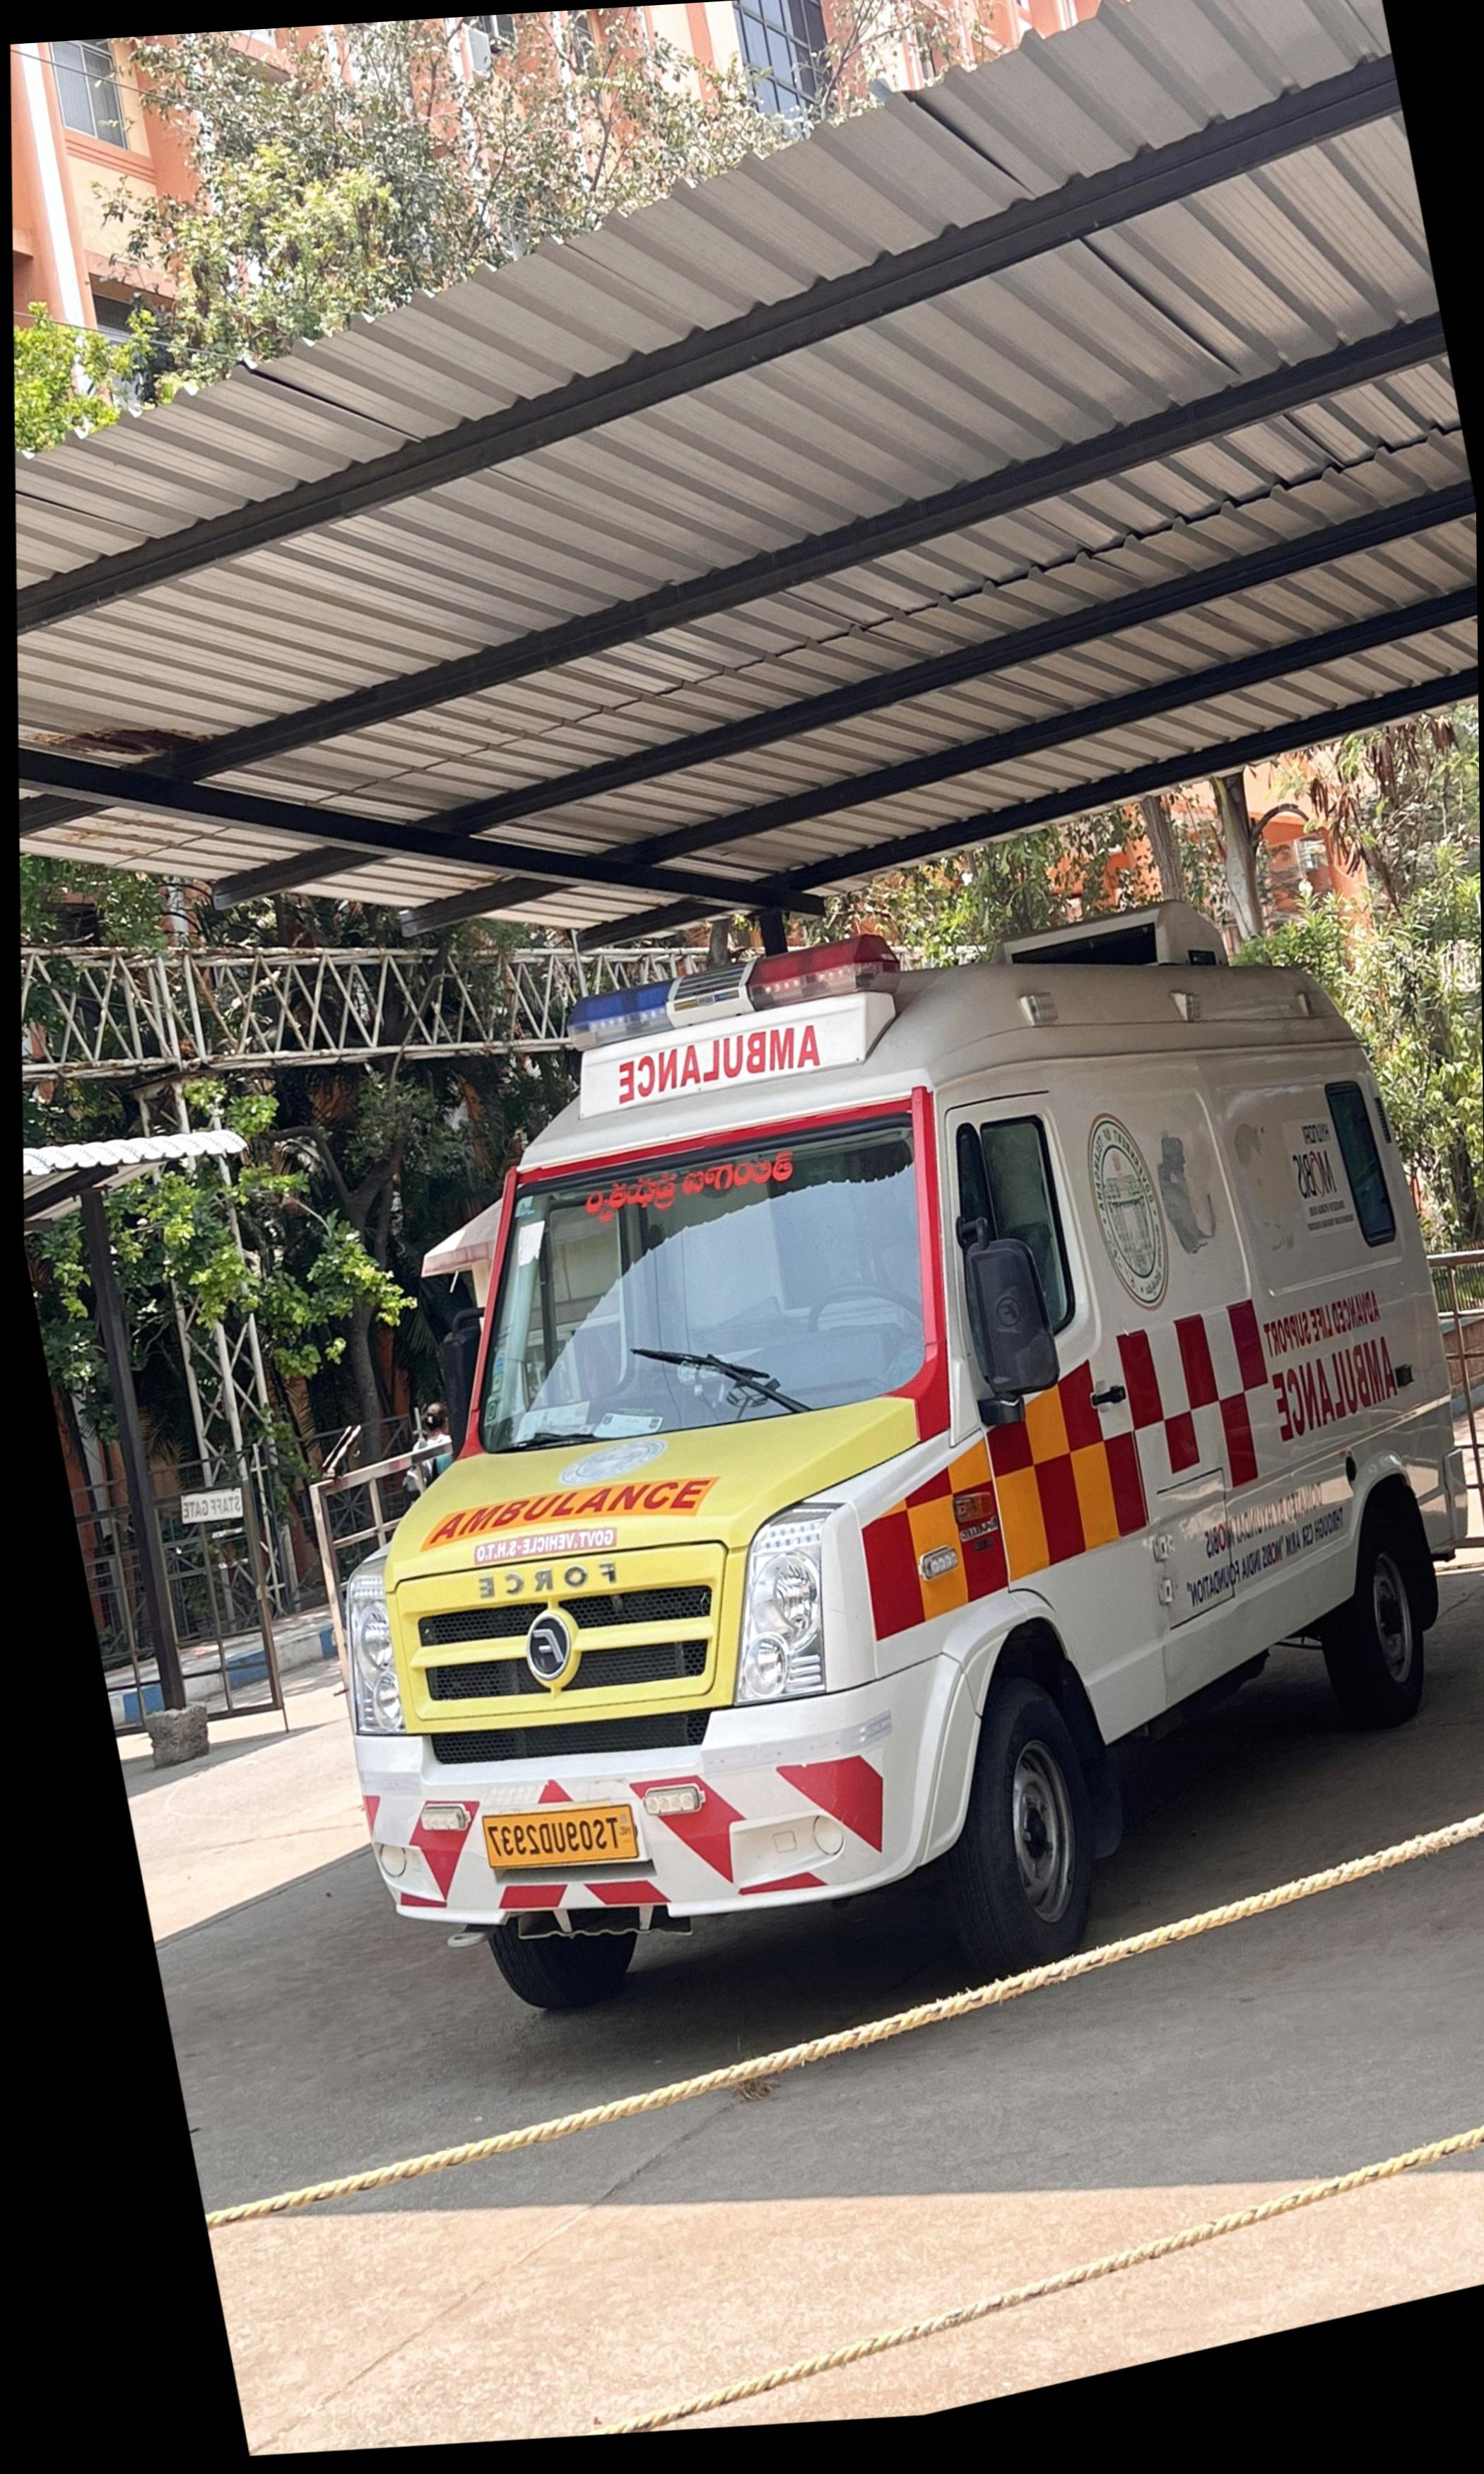ambulance: (343, 905, 1472, 2018)
